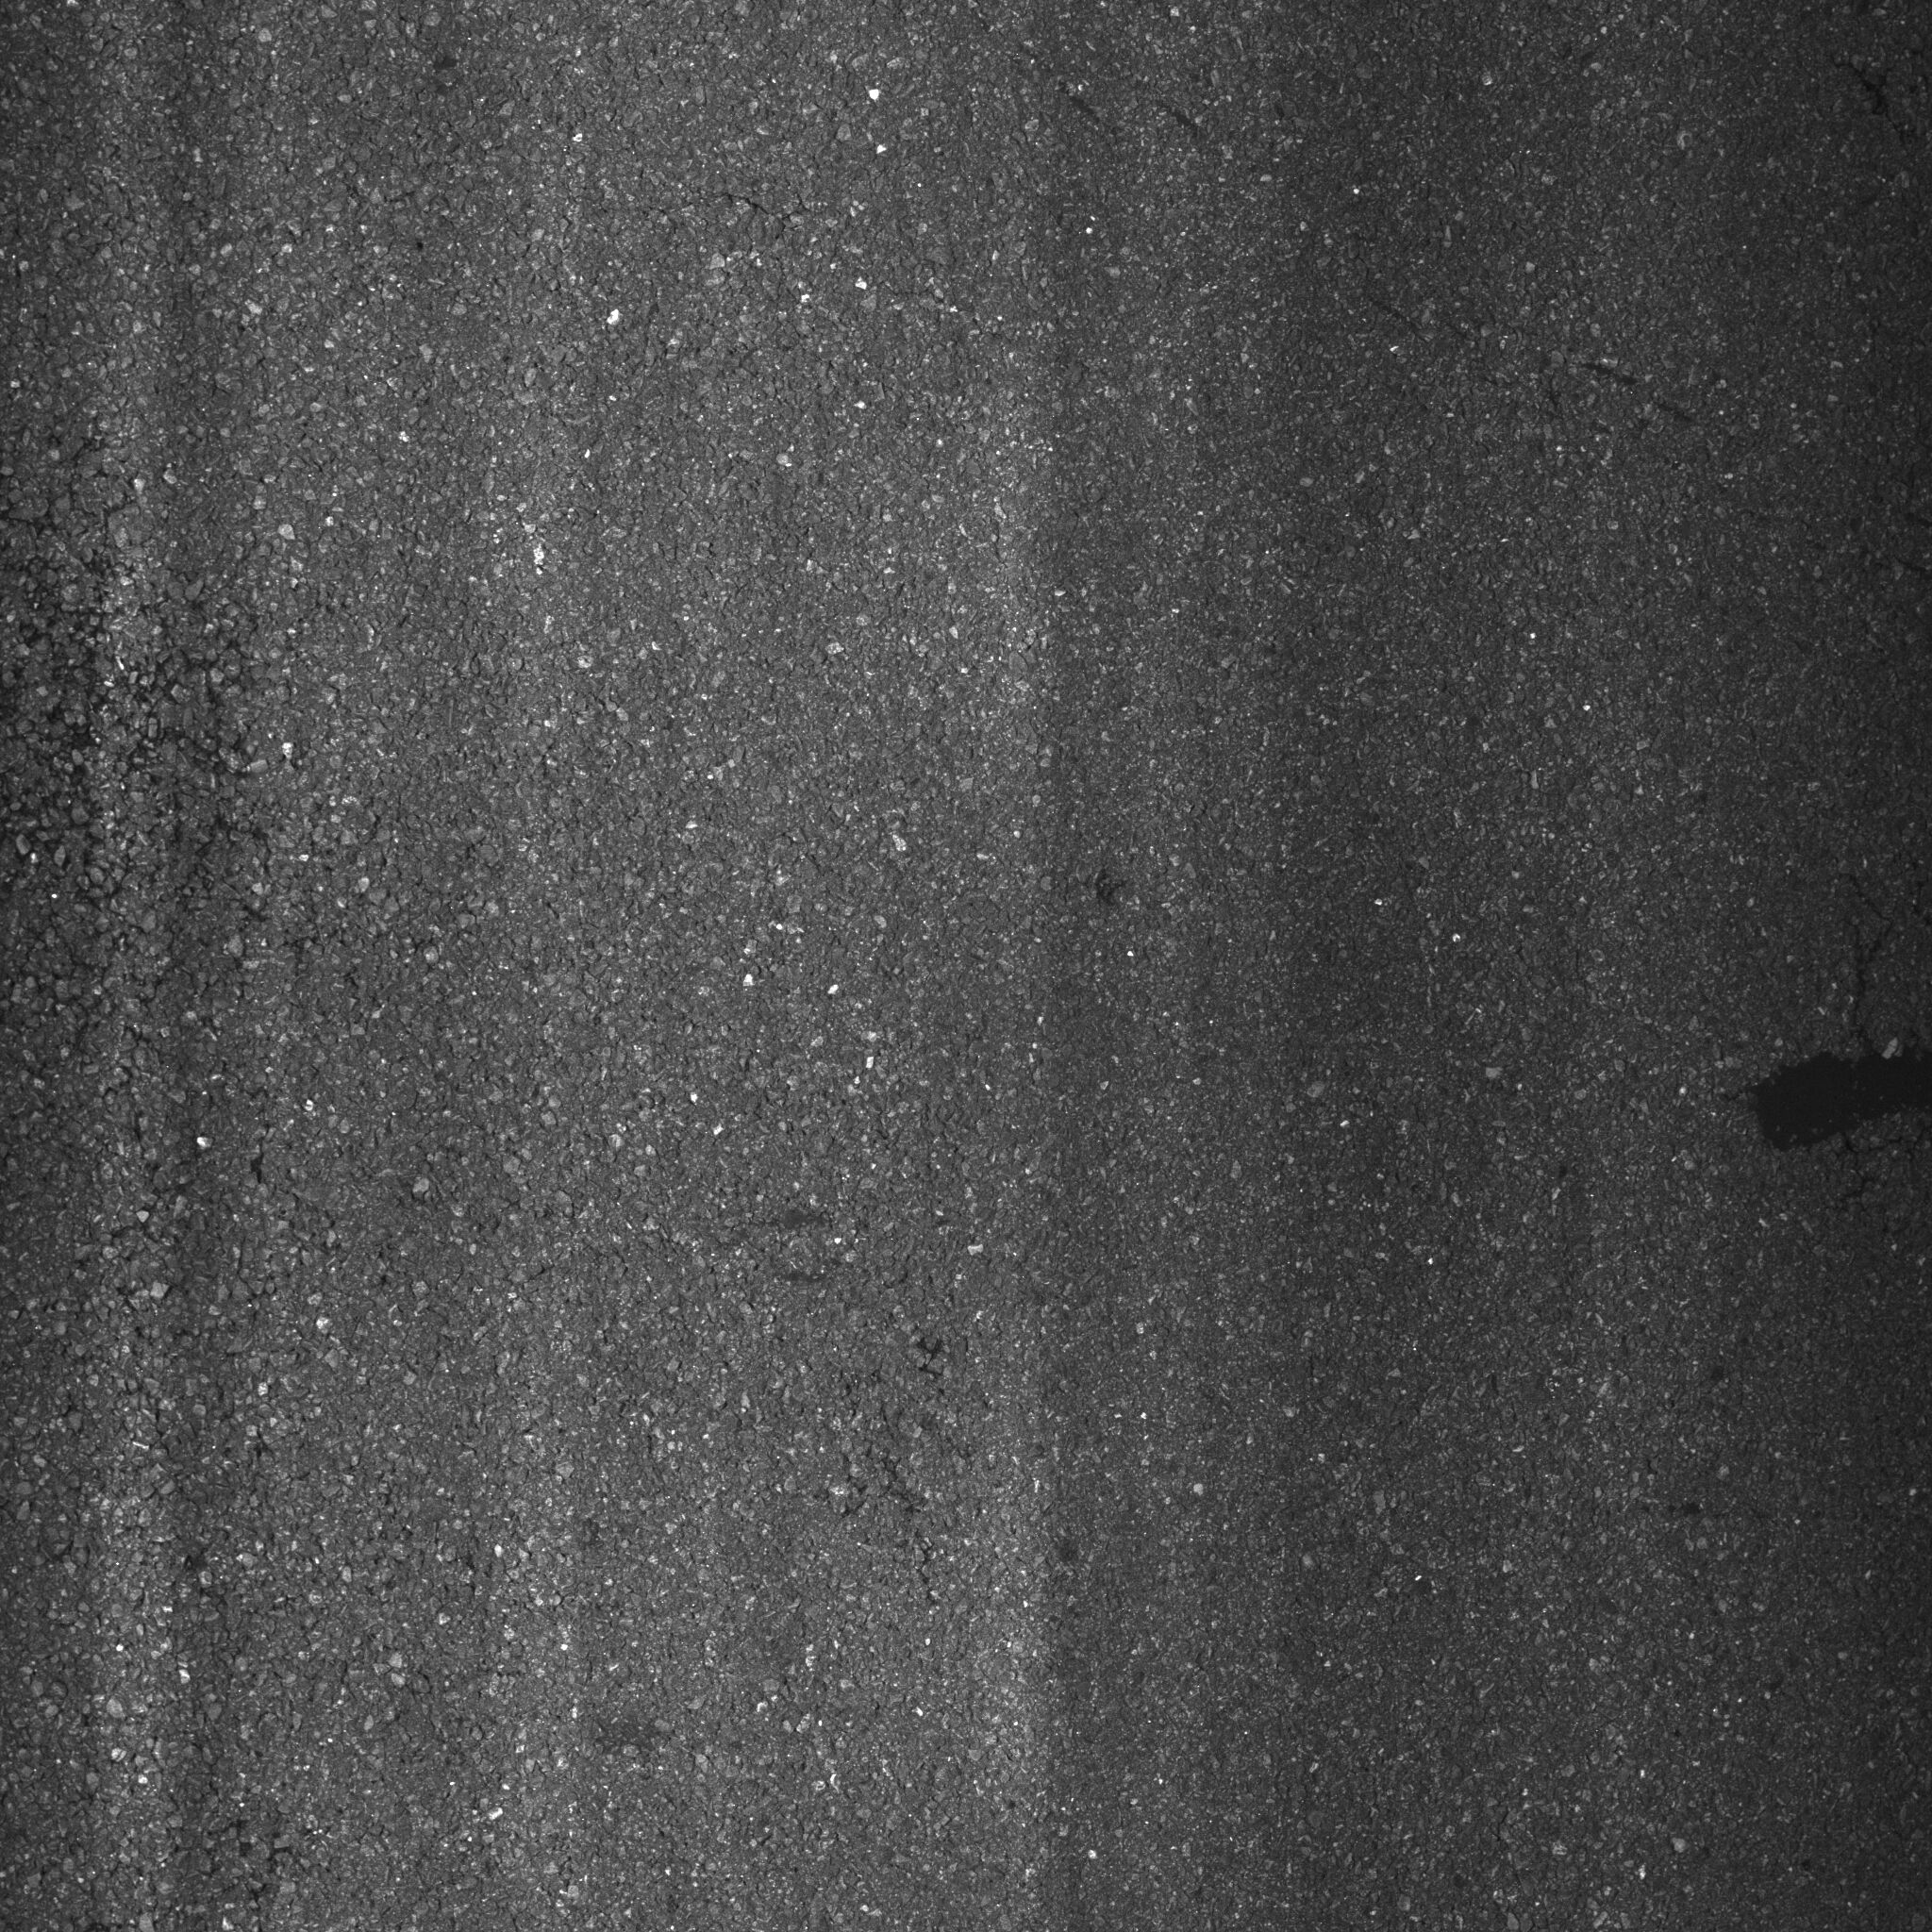alligator: (4, 478, 310, 1154)
